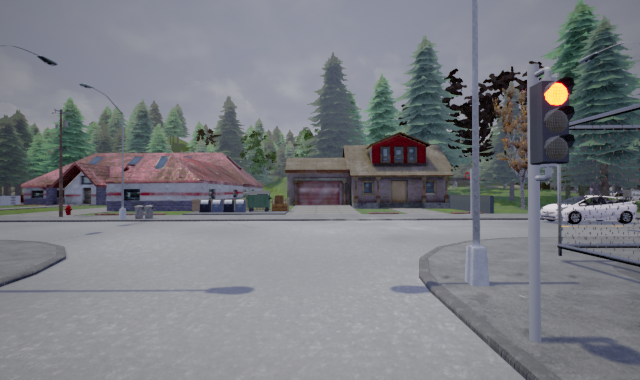vehicle: (536, 195, 639, 225)
